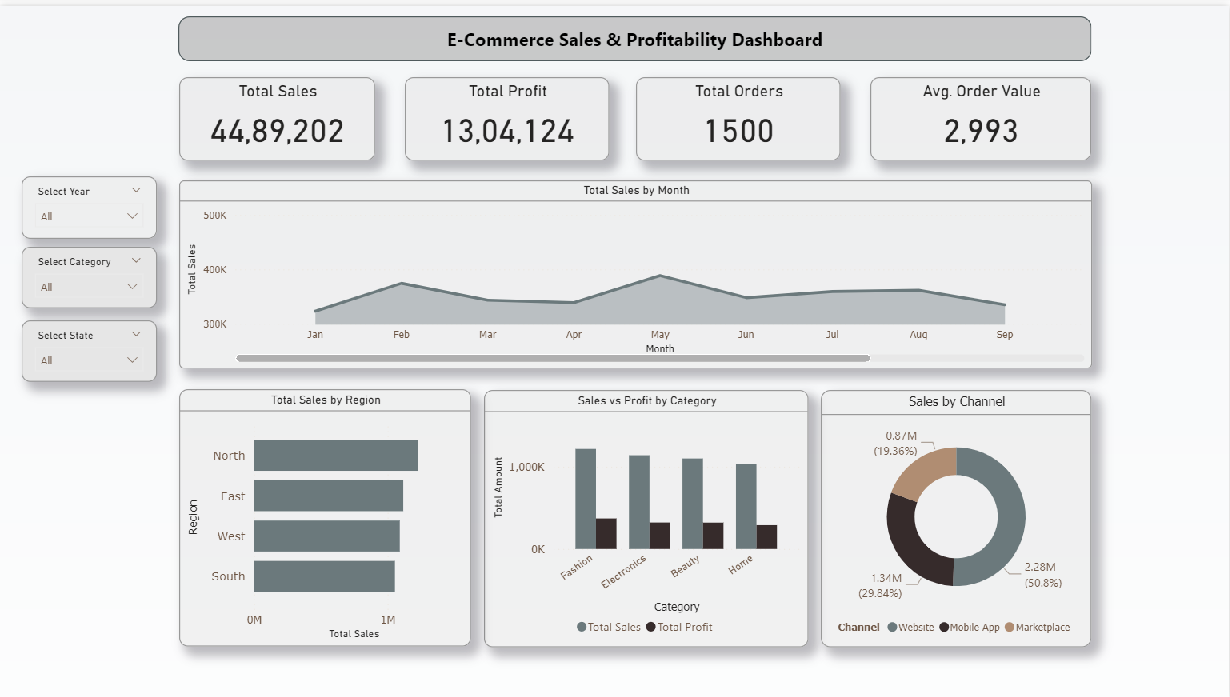

The dashboard page shown, as its layout file describes it:
{"tool":"powerbi","page":{"name":"ECom Sales & Profitability Dashboard","canvas":[1280,720],"ordinal":0},"visuals":[{"type":"card","title":"Total Sales","fields":{"Values":["Measures _Temp.Total Sales"]},"box":[186.4,74.5,204.2,87],"z":1000},{"type":"card","title":"Total Profit","fields":{"Values":["Measures _Temp.Total Profit"]},"box":[421.3,74.5,213.3,87],"z":3000},{"type":"card","title":"Total Orders","fields":{"Values":["Measures _Temp.Total Orders"]},"box":[662.1,74.5,213.3,87],"z":5000},{"type":"card","title":"Avg. Order Value","fields":{"Values":["Measures _Temp.Avg Order Value"]},"box":[906.9,74.2,230.3,87],"z":7000},{"type":"slicer","fields":{"Values":["Dim_Date.Year"]},"box":[22.2,177.3,140.7,65.4],"z":9000},{"type":"slicer","fields":{"Values":["Dim_products.Category"]},"box":[22.2,250.6,140.7,64.1],"z":10000},{"type":"slicer","fields":{"Values":["Dim_customers.State"]},"box":[22.2,327.9,140.7,64.1],"z":12000},{"type":"lineChart","fields":{"Category":["Dim_Date.Month"],"Y":["Measures _Temp.Total Sales"]},"box":[186.6,182,950.9,196.3],"z":13000},{"type":"clusteredColumnChart","title":"Sales vs Profit by Category","fields":{"Category":["Dim_products.Category"],"Y":["Measures _Temp.Total Sales","Measures _Temp.Total Profit"]},"box":[504.3,400,338.3,267.6],"z":14000},{"type":"clusteredBarChart","fields":{"Category":["Fact_sales.Region"],"Y":["Measures _Temp.Total Sales"]},"box":[186.3,399.3,303.6,268.3],"z":15000},{"type":"donutChart","title":"Sales by Channel","fields":{"Category":["Fact_sales.Channel"],"Y":["Measures _Temp.Total Sales"]},"box":[855.1,400,282,267.6],"z":16000},{"type":"shape","box":[186,10.7,951.3,46.7],"z":16001}]}

Visuals, with their boxes in screenshot pixels (x1, y1, x2, y2), scaled from the page's 1280x720 canvas onto the 1230x697 screenshot:
"Total Sales" card: bbox(179, 72, 375, 156)
"Total Profit" card: bbox(405, 72, 610, 156)
"Total Orders" card: bbox(636, 72, 841, 156)
"Avg. Order Value" card: bbox(871, 72, 1093, 156)
slicer - Dim_Date.Year: bbox(21, 172, 157, 235)
slicer - Dim_products.Category: bbox(21, 243, 157, 305)
slicer - Dim_customers.State: bbox(21, 317, 157, 379)
lineChart - Dim_Date.Month x Measures _Temp.Total Sales: bbox(179, 176, 1093, 366)
"Sales vs Profit by Category" clusteredColumnChart: bbox(485, 387, 810, 646)
clusteredBarChart - Fact_sales.Region x Measures _Temp.Total Sales: bbox(179, 387, 471, 646)
"Sales by Channel" donutChart: bbox(822, 387, 1093, 646)
shape: bbox(179, 10, 1093, 56)
